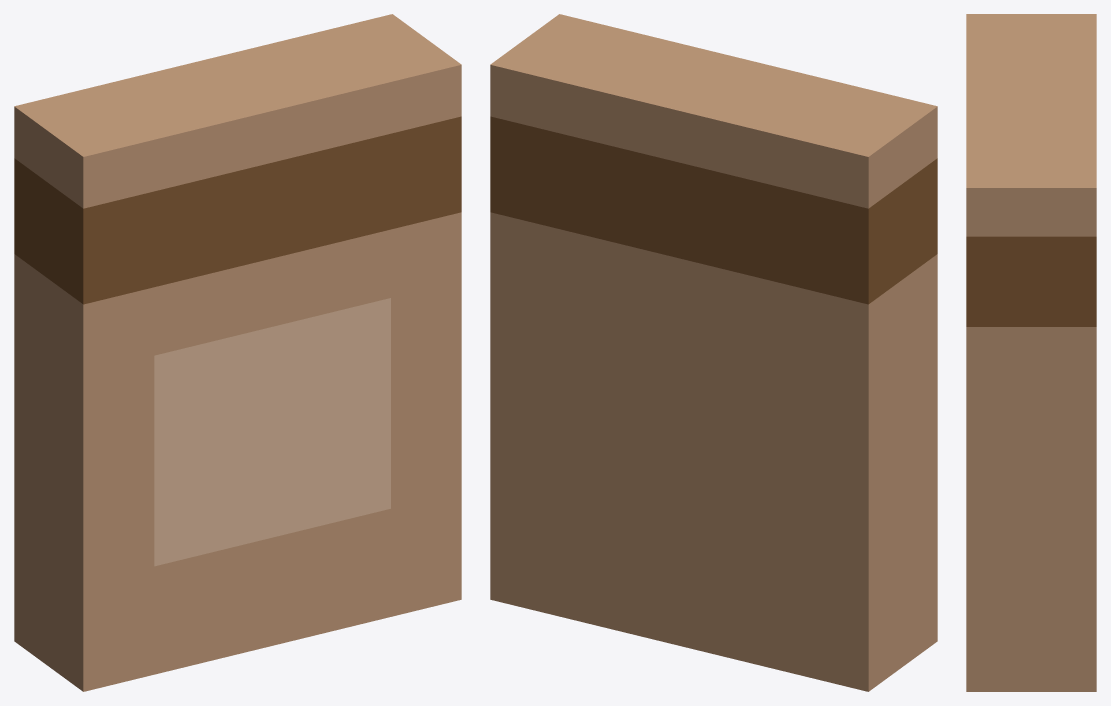
File: SM_Food_FoodBox_02.fbx
3 views of the same model, side by side, from view 1: azimuth 30°, elevation 25°; view 2: azimuth 150°, elevation 25°; view 3: azimuth 270°, elevation 25° (orthographic). The views are drawn at different scales.
Visible parts, largest first — view 1: SM_Food_FoodBox_02; view 2: SM_Food_FoodBox_02; view 3: SM_Food_FoodBox_02.
Boxes of the visible parts, <box> form: SM_Food_FoodBox_02: <box>14,14,461,691</box>; SM_Food_FoodBox_02: <box>490,14,937,691</box>; SM_Food_FoodBox_02: <box>966,14,1096,691</box>.
Size of the model in its own units: 0.2195 by 0.2966 by 0.0696.
